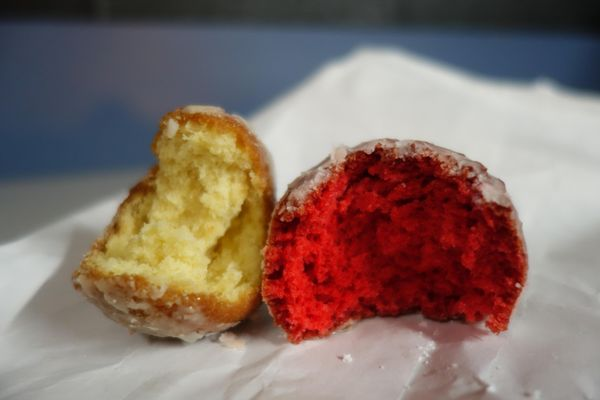salad: (262, 138, 530, 343), (72, 102, 274, 342)
